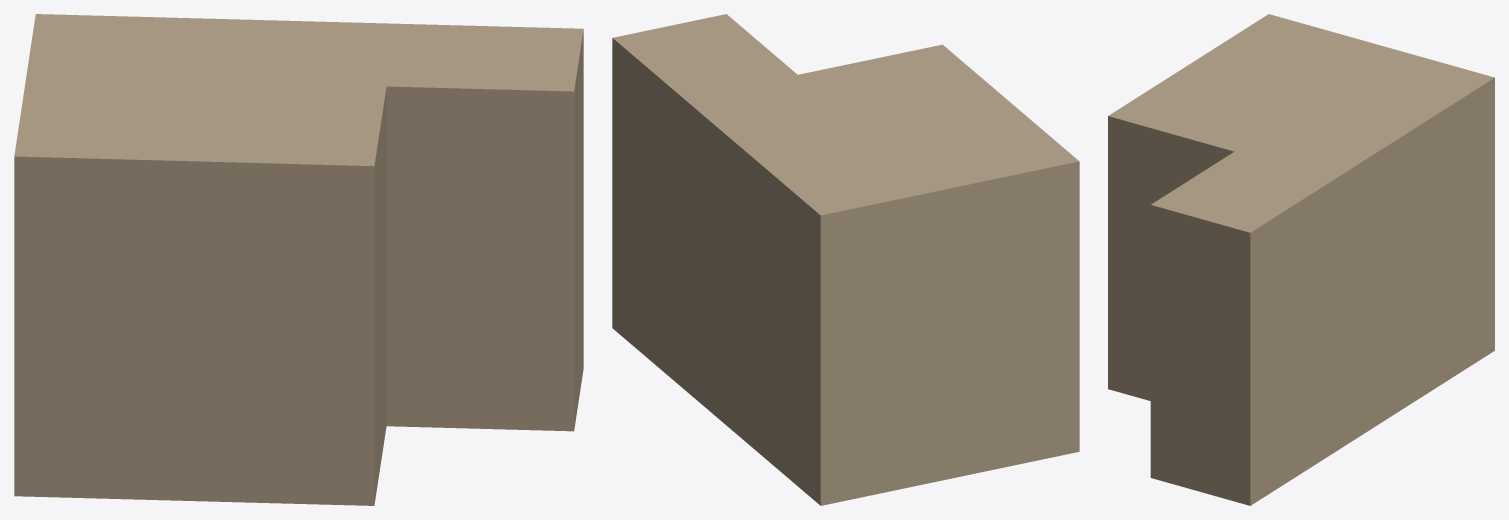
Rendered from bld_100469816.dae.
3 renders of one model, left to right at view 1: azimuth 30°, elevation 25°; view 2: azimuth 150°, elevation 25°; view 3: azimuth 270°, elevation 25°, orthographic. The views are drawn at different scales.
Visible parts, largest first — view 1: bld_100469816; view 2: bld_100469816; view 3: bld_100469816.
Boxes of the visible parts, left/top/right/bottom form: bld_100469816: left=14, top=14, right=583, bottom=505; bld_100469816: left=612, top=14, right=1079, bottom=505; bld_100469816: left=1108, top=14, right=1494, bottom=505.
Bounding box in the file's own units: 13.75 × 10.27 × 8.
